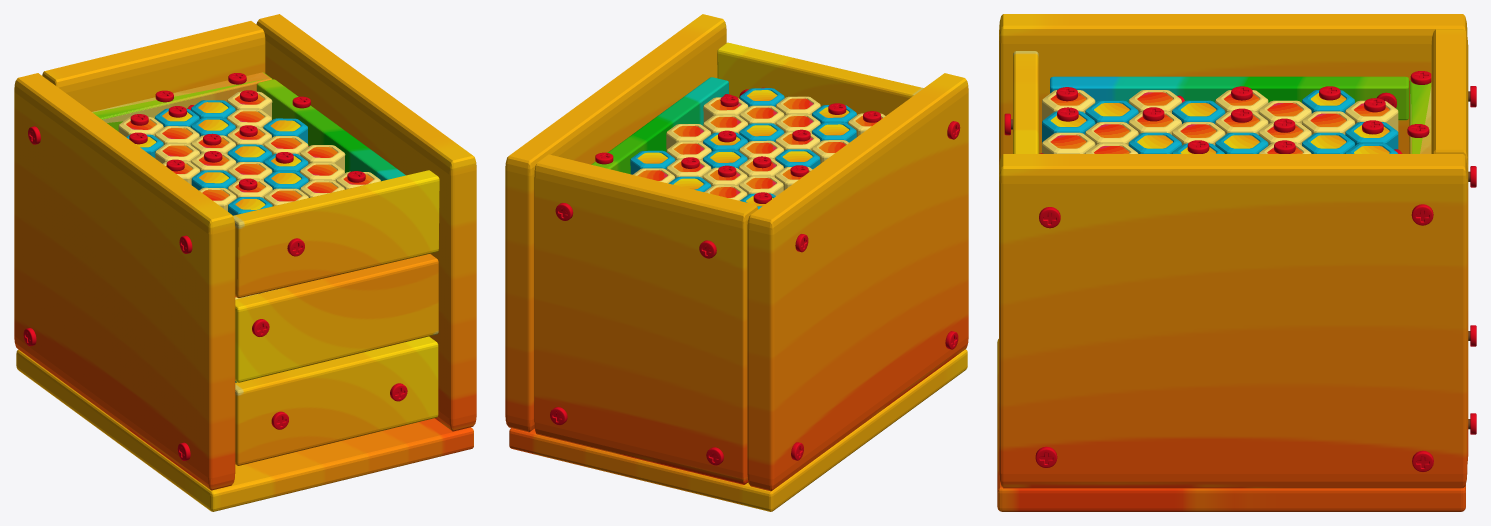
Rendered from lvl_78.fbx.
3 views of the same model, side by side, from view 1: azimuth 30°, elevation 25°; view 2: azimuth 150°, elevation 25°; view 3: azimuth 270°, elevation 25° (orthographic). The views are drawn at different scales.
Visible parts, largest first — view 1: Cube_L1_1, Cube_L1, Cube_L4_2, Cube_L5_2, Cube_L3_2, Cube_L1_3, Cube_L1_2, Cube_L4_1, Cube_L2_2, Cube_L4_4, Cube_L4_34, Cube_L4_3 (+16 smaller); view 2: Cube_L1_1, Cube_L1_2, Cube_L1, Cube_L1_3, Cube_L4_2, Cube_L4_1, Cube_L4_34, Cube_L4_4, Cube_L4_6, Cube_L4_3, Cube_L4_22, Cube_L4_13 (+10 smaller); view 3: Cube_L1, Cube_L1_1, Cube_L1_3, Cube_L4, Cube_L1_2, Cube_L4_2, Cube_L2_2, Cube_L4_12, Cube_L4_8, Cube_L4_3, Cube_L4_23, Cube_L4_6 (+15 smaller).
Boxes of the visible parts, <box> form: Cube_L1_1: <box>14,73,235,490</box>; Cube_L1: <box>256,14,476,431</box>; Cube_L4_2: <box>233,170,439,298</box>; Cube_L5_2: <box>235,254,438,382</box>; Cube_L3_2: <box>235,336,438,465</box>; Cube_L1_3: <box>16,349,473,511</box>; Cube_L1_2: <box>42,21,265,111</box>; Cube_L4_1: <box>256,79,405,181</box>; Cube_L2_2: <box>92,72,272,131</box>; Cube_L4_4: <box>300,145,345,173</box>; Cube_L4_34: <box>263,118,307,143</box>; Cube_L4_3: <box>191,170,236,190</box>; Cube_L1_1: <box>747,73,968,491</box>; Cube_L1_2: <box>534,154,757,484</box>; Cube_L1: <box>505,14,726,432</box>; Cube_L1_3: <box>509,349,967,511</box>; Cube_L4_2: <box>717,42,923,115</box>; Cube_L4_1: <box>591,77,728,174</box>; Cube_L4_34: <box>630,150,675,174</box>; Cube_L4_4: <box>666,124,711,149</box>; Cube_L4_6: <box>812,122,856,142</box>; Cube_L4_3: <box>775,149,820,169</box>; Cube_L4_22: <box>739,176,783,195</box>; Cube_L4_13: <box>739,105,784,124</box>; Cube_L1: <box>999,154,1467,488</box>; Cube_L1_1: <box>999,14,1467,169</box>; Cube_L1_3: <box>997,339,1465,511</box>; Cube_L4: <box>1050,76,1408,120</box>; Cube_L1_2: <box>1431,29,1468,463</box>; Cube_L4_2: <box>1013,51,1038,153</box>; Cube_L2_2: <box>1409,80,1431,153</box>; Cube_L4_12: <box>1042,132,1095,153</box>; Cube_L4_8: <box>1085,122,1138,145</box>; Cube_L4_3: <box>1172,100,1225,123</box>; Cube_L4_23: <box>1302,111,1354,134</box>; Cube_L4_6: <box>1085,100,1138,123</box>.
Size of the model in its own units: 12.44 by 12.66 by 15.49.
